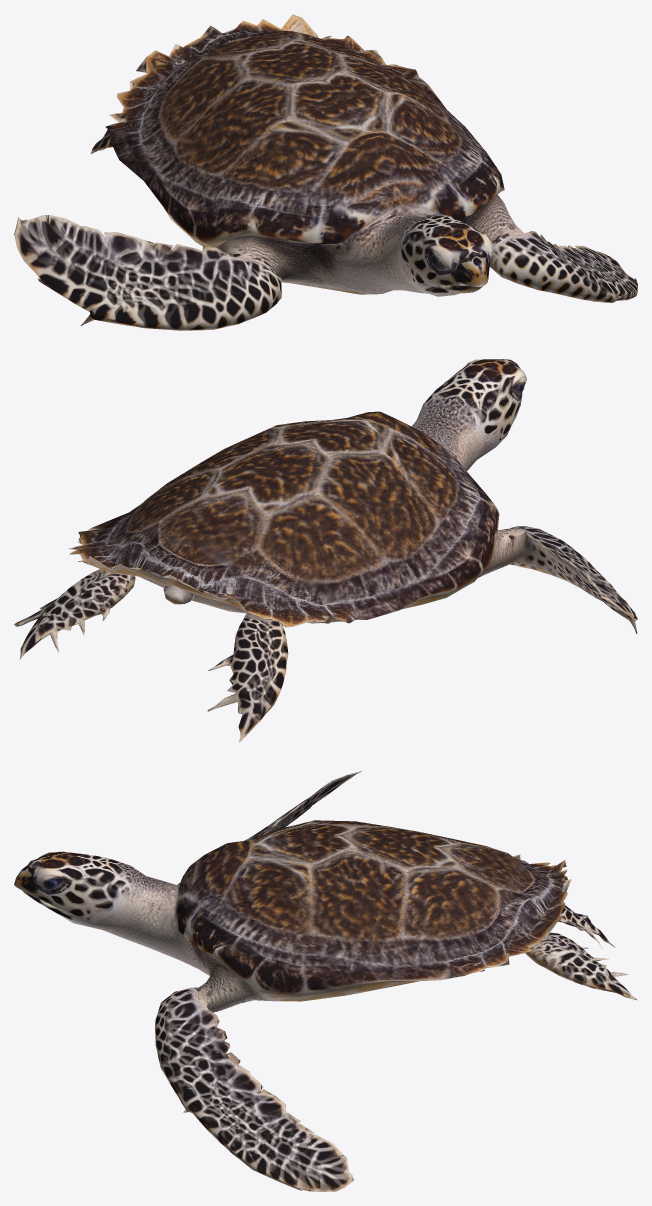
Rendered from tartaruga_de_pente_nova.glb.
3 views of the same model, one above another, from view 1: azimuth 30°, elevation 25°; view 2: azimuth 150°, elevation 25°; view 3: azimuth 270°, elevation 25° (orthographic). The views are drawn at different scales.
Size of the model in its own units: 0.9546 by 0.3892 by 0.9561.
Materials: 1 (1 with a texture image).
